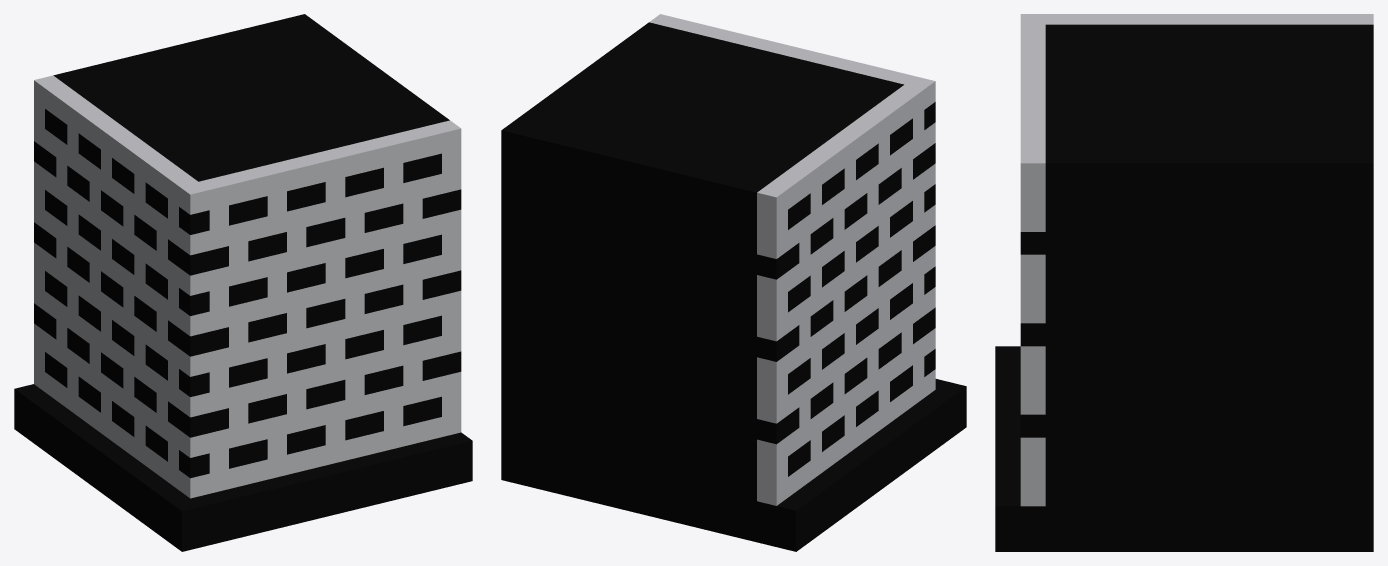
Rendered from dungeon_d_b_outer_wall_corner_a.obj.
The picture shows the model from 3 angles, left to right: view 1: azimuth 30°, elevation 25°; view 2: azimuth 150°, elevation 25°; view 3: azimuth 270°, elevation 25°; orthographic projection. The views are drawn at different scales.
Bounding box in the file's own units: 1.5 × 1.7 × 1.5.
Materials: 1 (1 with a texture image).
